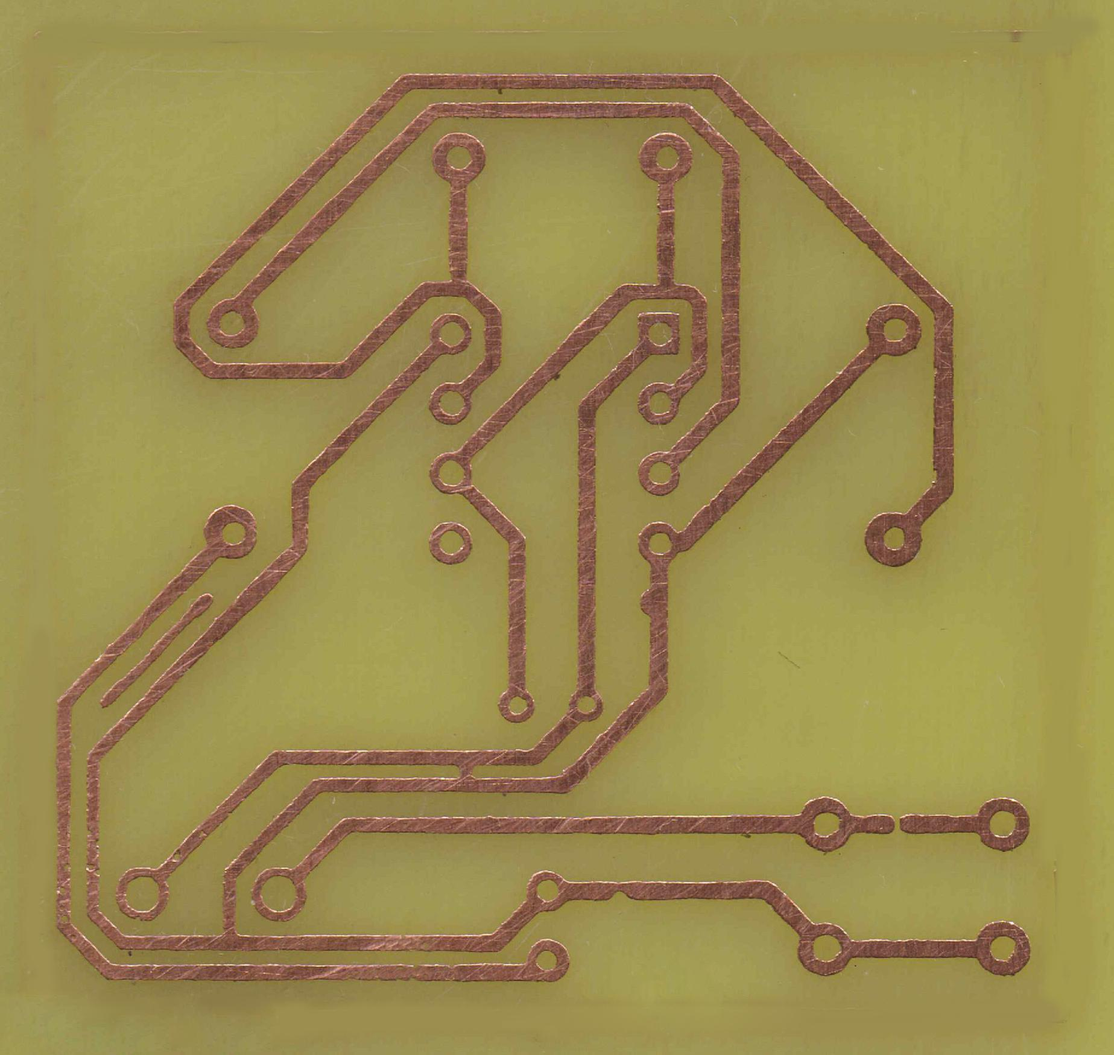mouse_bite: (609, 874, 632, 909)
open_circuit: (885, 805, 910, 839)
short: (452, 750, 482, 794)
spur: (631, 588, 675, 624)
spurious_copper: (95, 594, 217, 711)
